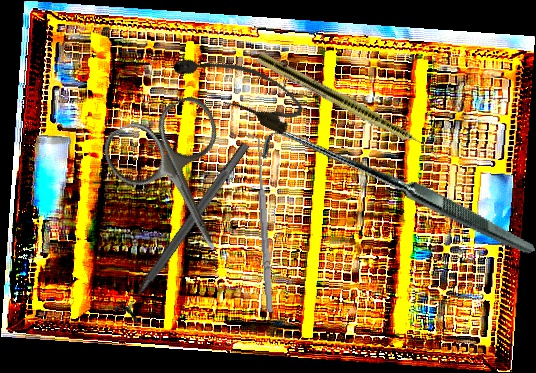Cannula: (167, 35, 310, 139)
Fixation Ring: (111, 134, 260, 328)
Handpiece: (253, 50, 447, 163)
Hook Surgical: (255, 53, 536, 339), (246, 134, 276, 313)
Iris Scissors: (95, 90, 266, 275)
